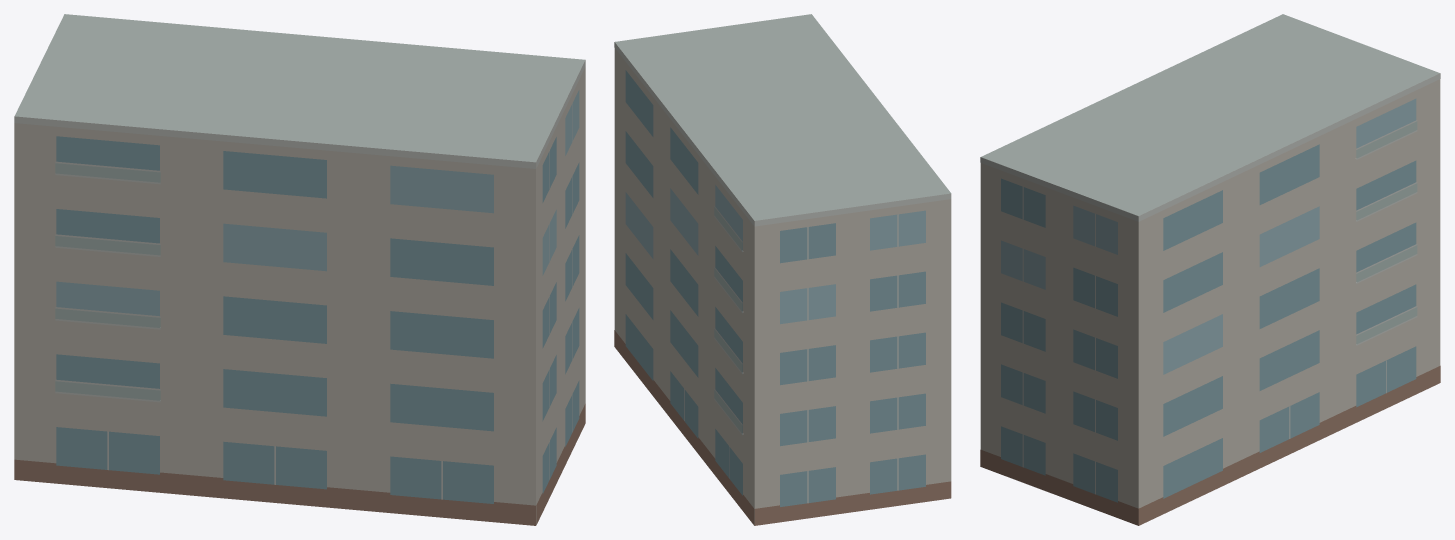
File: survey-upis-32525791.glb
3 renders of one model, left to right at view 1: azimuth 30°, elevation 25°; view 2: azimuth 150°, elevation 25°; view 3: azimuth 270°, elevation 25°, orthographic. The views are drawn at different scales.
Visible parts, largest first — view 1: survey-upis-32525791.tmp; view 2: survey-upis-32525791.tmp; view 3: survey-upis-32525791.tmp.
Boxes of the visible parts, <box> form: survey-upis-32525791.tmp: <box>14,14,585,525</box>; survey-upis-32525791.tmp: <box>614,14,951,525</box>; survey-upis-32525791.tmp: <box>980,14,1440,525</box>.
Size of the model in its own units: 18.63 by 13.3 by 17.91.
